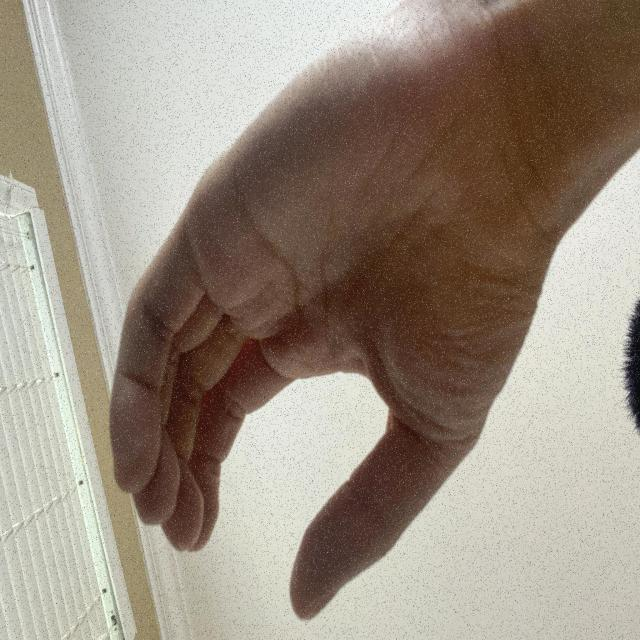C: (8, 134, 480, 640)
